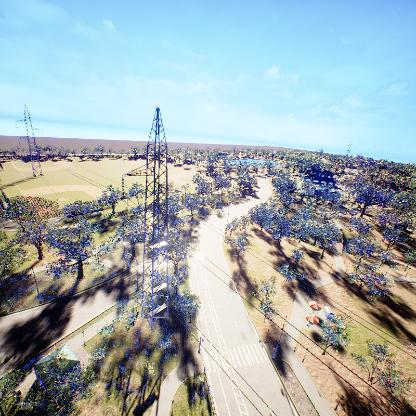tower: (138, 107, 173, 333), (12, 102, 47, 180)
